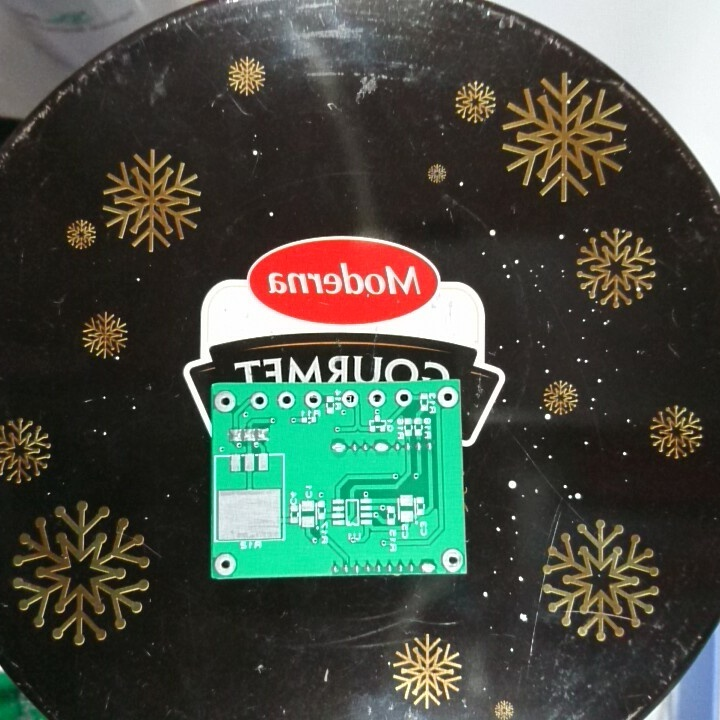F: (213, 551, 239, 578), (214, 389, 238, 415), (441, 547, 464, 573), (246, 390, 271, 412), (274, 389, 297, 412), (436, 386, 459, 409), (302, 389, 324, 411), (393, 387, 414, 409), (366, 388, 387, 409), (340, 389, 360, 409)
P: (328, 438, 349, 457), (372, 438, 391, 455), (418, 560, 437, 574)
